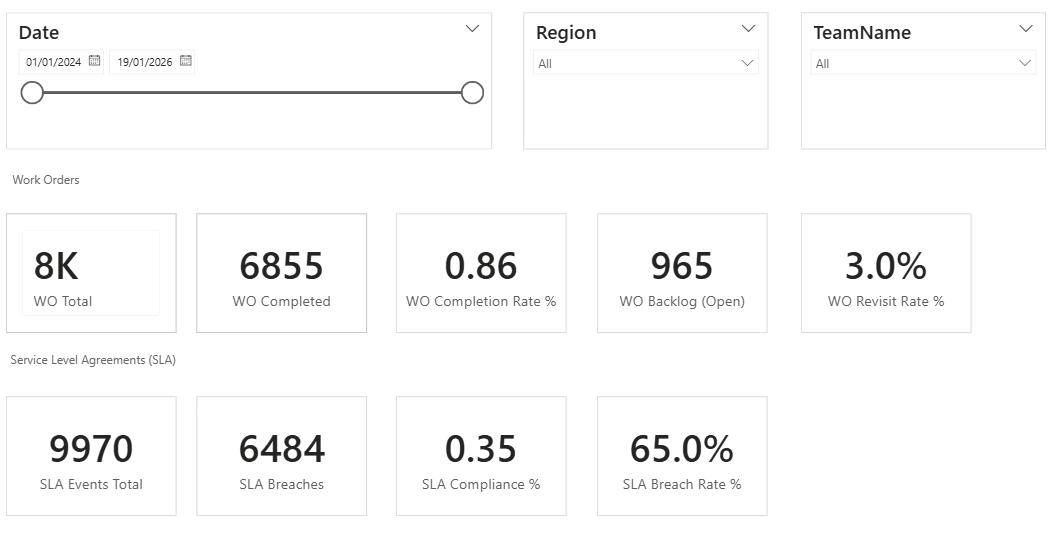

What the dashboard file says about the page in this screenshot:
{"tool":"powerbi","page":{"name":"Executive Overview","canvas":[1280,720],"ordinal":0},"visuals":[{"type":"cardVisual","fields":{"Data":["Measures (2).WO Total"]},"box":[9.7,251.5,189,132.8],"z":1000},{"type":"card","fields":{"Values":["Measures (2).WO Completed"]},"box":[221.8,251.5,189.4,132.8],"z":2000},{"type":"card","fields":{"Values":["Measures (2).WO Completion Rate %"]},"box":[443.7,251.5,189.4,132.8],"z":3000},{"type":"card","fields":{"Values":["Measures (2).WO Backlog (Open)"]},"box":[667.1,251.5,189.4,132.8],"z":4000},{"type":"card","fields":{"Values":["Measures (2).WO Revisit Rate %"]},"box":[893.8,251.5,189.4,132.8],"z":5000},{"type":"card","fields":{"Values":["Measures (2).SLA Events Total"]},"box":[9.7,455,189.4,132.8],"z":6000},{"type":"card","fields":{"Values":["Measures (2).SLA Breaches"]},"box":[221.8,455,189.4,132.8],"z":7000},{"type":"card","fields":{"Values":["Measures (2).SLA Compliance %"]},"box":[443.7,455,189.4,132.8],"z":8000},{"type":"card","fields":{"Values":["Measures (2).SLA Breach Rate %"]},"box":[667.1,455,189.4,132.8],"z":9000},{"type":"textbox","box":[14.6,202.4,97.2,34],"z":10000},{"type":"textbox","box":[9.7,398.3,202.4,35.6],"z":11000},{"type":"slicer","fields":{"Values":["DimDate.Date"]},"box":[9.7,29.1,540,152],"z":14000},{"type":"slicer","fields":{"Values":["DimLocation.Region"]},"box":[584.5,29.1,272,152],"z":15000},{"type":"slicer","fields":{"Values":["DimTeam.TeamName"]},"box":[893.8,29.1,272,152],"z":16000}]}

Visuals, with their boxes on the page's 1280x720 design canvas (x1, y1, x2, y2). These are canvas units, not pixel positions in the 1059x538 screenshot, which may show the page scaled, cropped or inside an application window:
cardVisual - Measures (2).WO Total: left=10, top=252, right=199, bottom=384
card - Measures (2).WO Completed: left=222, top=252, right=411, bottom=384
card - Measures (2).WO Completion Rate %: left=444, top=252, right=633, bottom=384
card - Measures (2).WO Backlog (Open): left=667, top=252, right=856, bottom=384
card - Measures (2).WO Revisit Rate %: left=894, top=252, right=1083, bottom=384
card - Measures (2).SLA Events Total: left=10, top=455, right=199, bottom=588
card - Measures (2).SLA Breaches: left=222, top=455, right=411, bottom=588
card - Measures (2).SLA Compliance %: left=444, top=455, right=633, bottom=588
card - Measures (2).SLA Breach Rate %: left=667, top=455, right=856, bottom=588
textbox: left=15, top=202, right=112, bottom=236
textbox: left=10, top=398, right=212, bottom=434
slicer - DimDate.Date: left=10, top=29, right=550, bottom=181
slicer - DimLocation.Region: left=584, top=29, right=856, bottom=181
slicer - DimTeam.TeamName: left=894, top=29, right=1166, bottom=181
